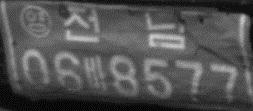0: (22, 49, 50, 90)
5: (143, 57, 173, 99)
6: (53, 51, 83, 94)
7: (173, 59, 205, 104), (208, 61, 237, 105)
8: (108, 54, 140, 97)
바: (84, 55, 106, 92)
영: (19, 3, 53, 40)
전남_D: (62, 6, 186, 49)
